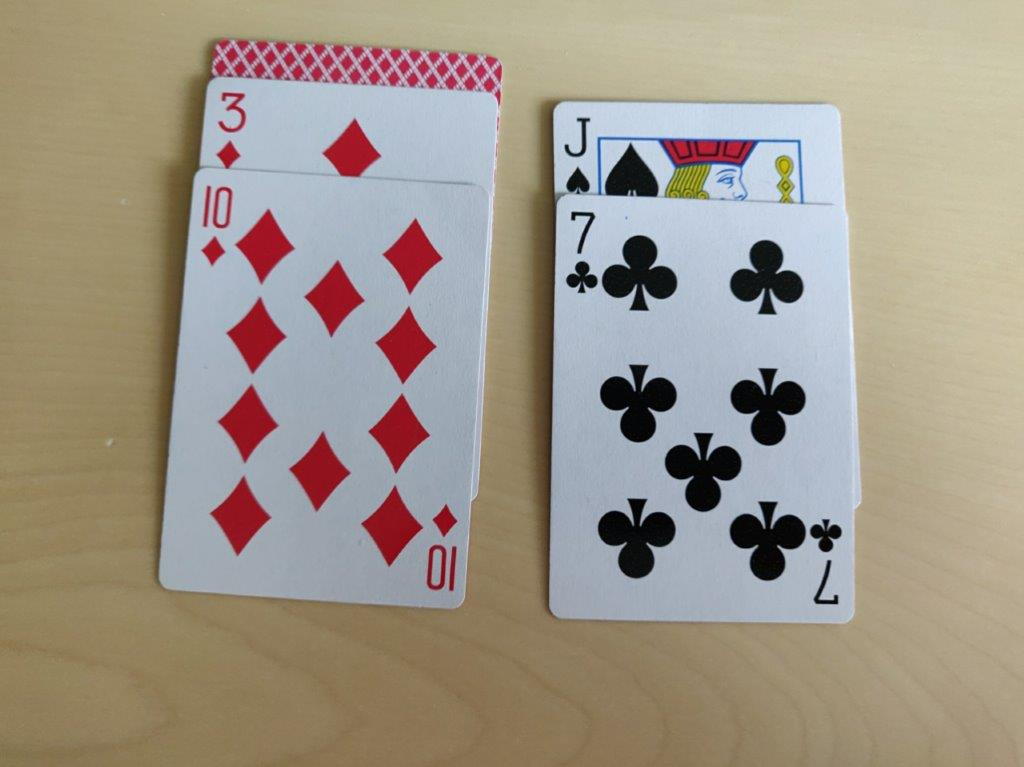10D: (195, 186, 234, 275)
3D: (210, 87, 251, 172)
7C: (559, 201, 604, 298)
BACK: (208, 32, 515, 98)
JS: (560, 110, 603, 194)
